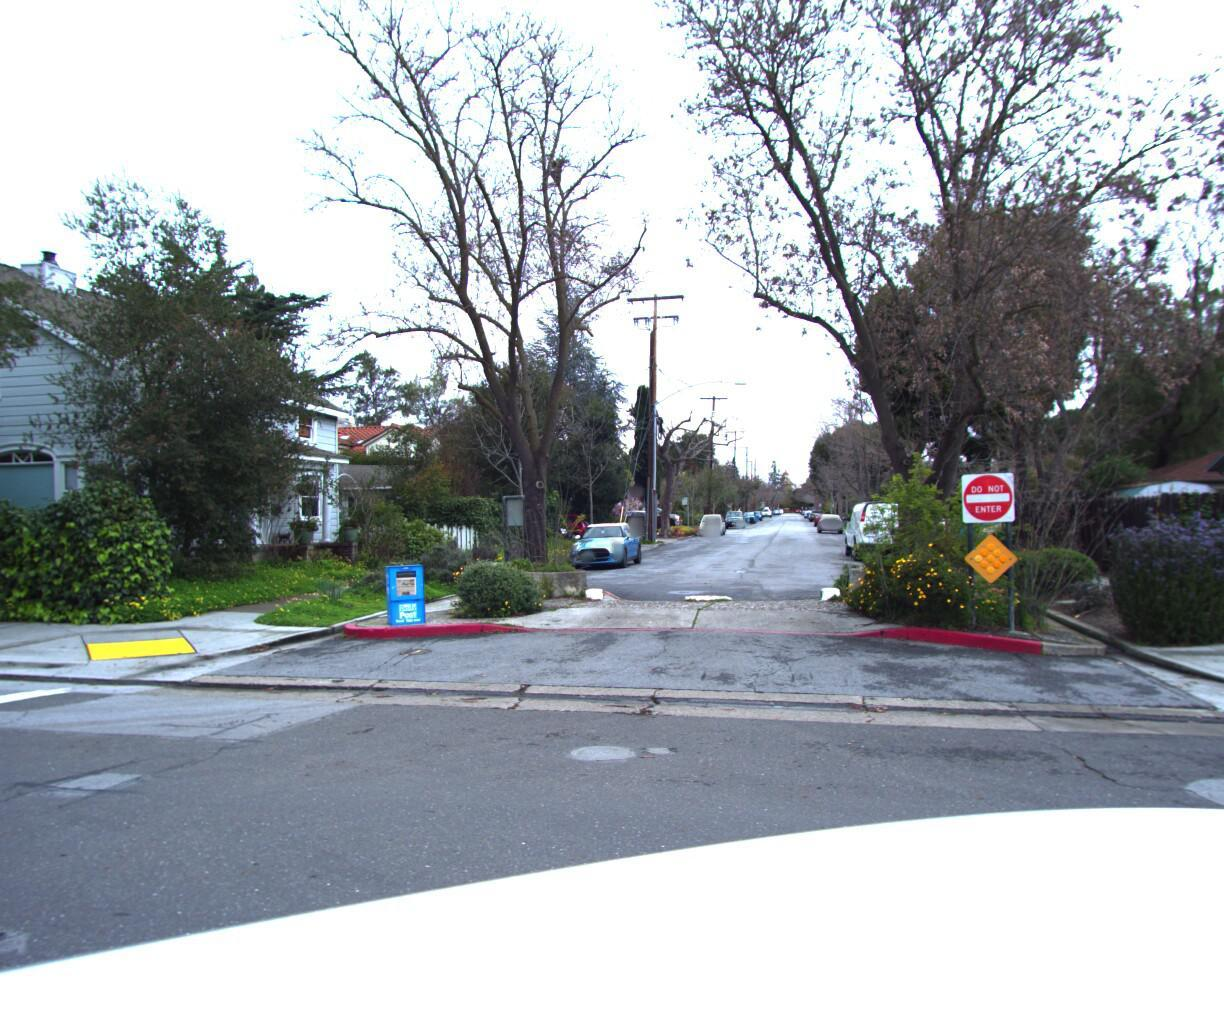car: (842, 503, 922, 570), (566, 524, 642, 577), (521, 515, 598, 548), (697, 518, 727, 541), (814, 523, 846, 544), (723, 514, 746, 532)
